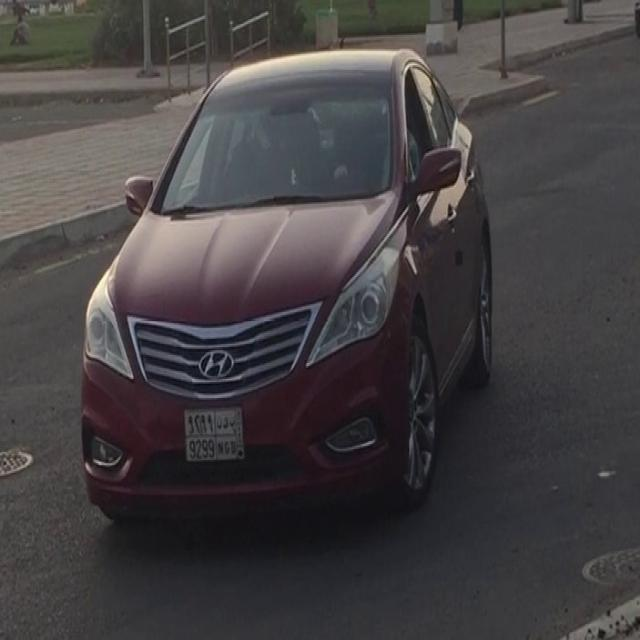Car-plate: (180, 401, 253, 473)
